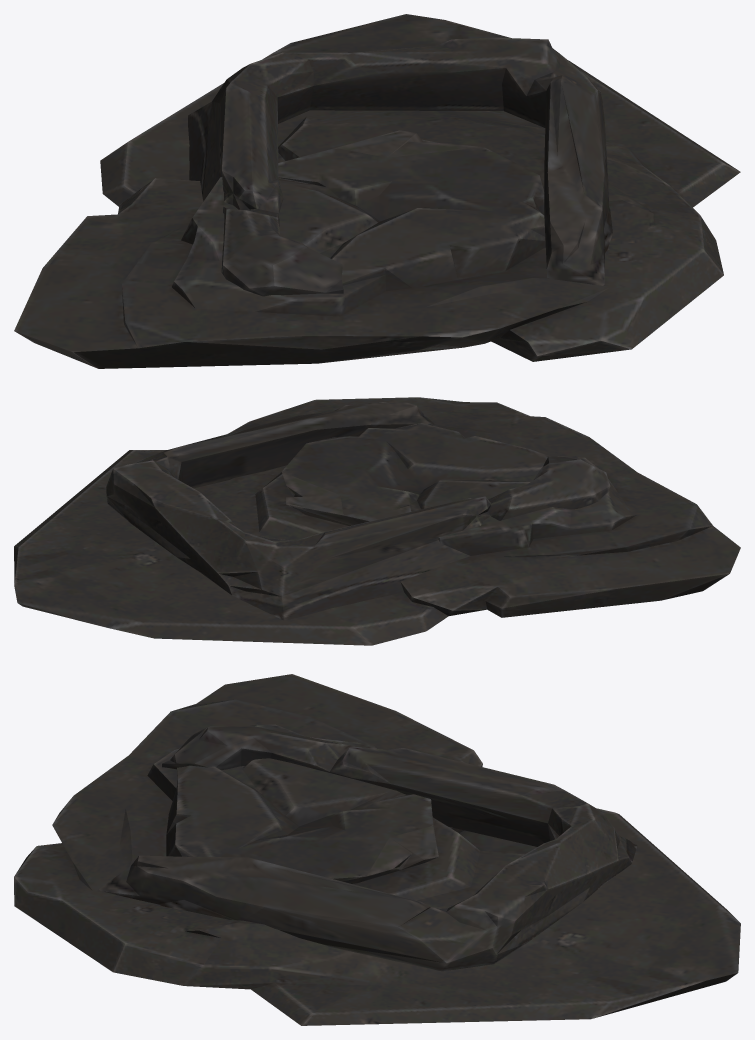
The model's file is badside_rocks006.gltf.
3 views of the same model, one above another, from view 1: azimuth 30°, elevation 25°; view 2: azimuth 150°, elevation 25°; view 3: azimuth 270°, elevation 25° (orthographic). The views are drawn at different scales.
Visible parts, largest first — view 1: badside_rocks006.vmdl_c.badside_rocks006_model; view 2: badside_rocks006.vmdl_c.badside_rocks006_model; view 3: badside_rocks006.vmdl_c.badside_rocks006_model.
Boxes of the visible parts, bbox=[...] form: badside_rocks006.vmdl_c.badside_rocks006_model: bbox=[14, 14, 740, 368]; badside_rocks006.vmdl_c.badside_rocks006_model: bbox=[14, 397, 740, 645]; badside_rocks006.vmdl_c.badside_rocks006_model: bbox=[14, 674, 740, 1025].
Bounding box in the file's own units: 9.66 × 0.9803 × 8.98.
Materials: 1 (1 with a texture image).
